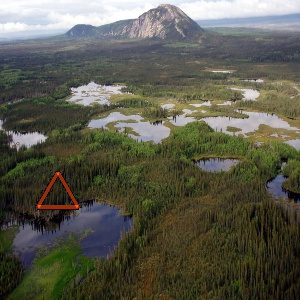triangle: (32, 168, 83, 212)
